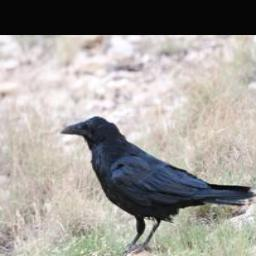Crow: (58, 115, 256, 256)
